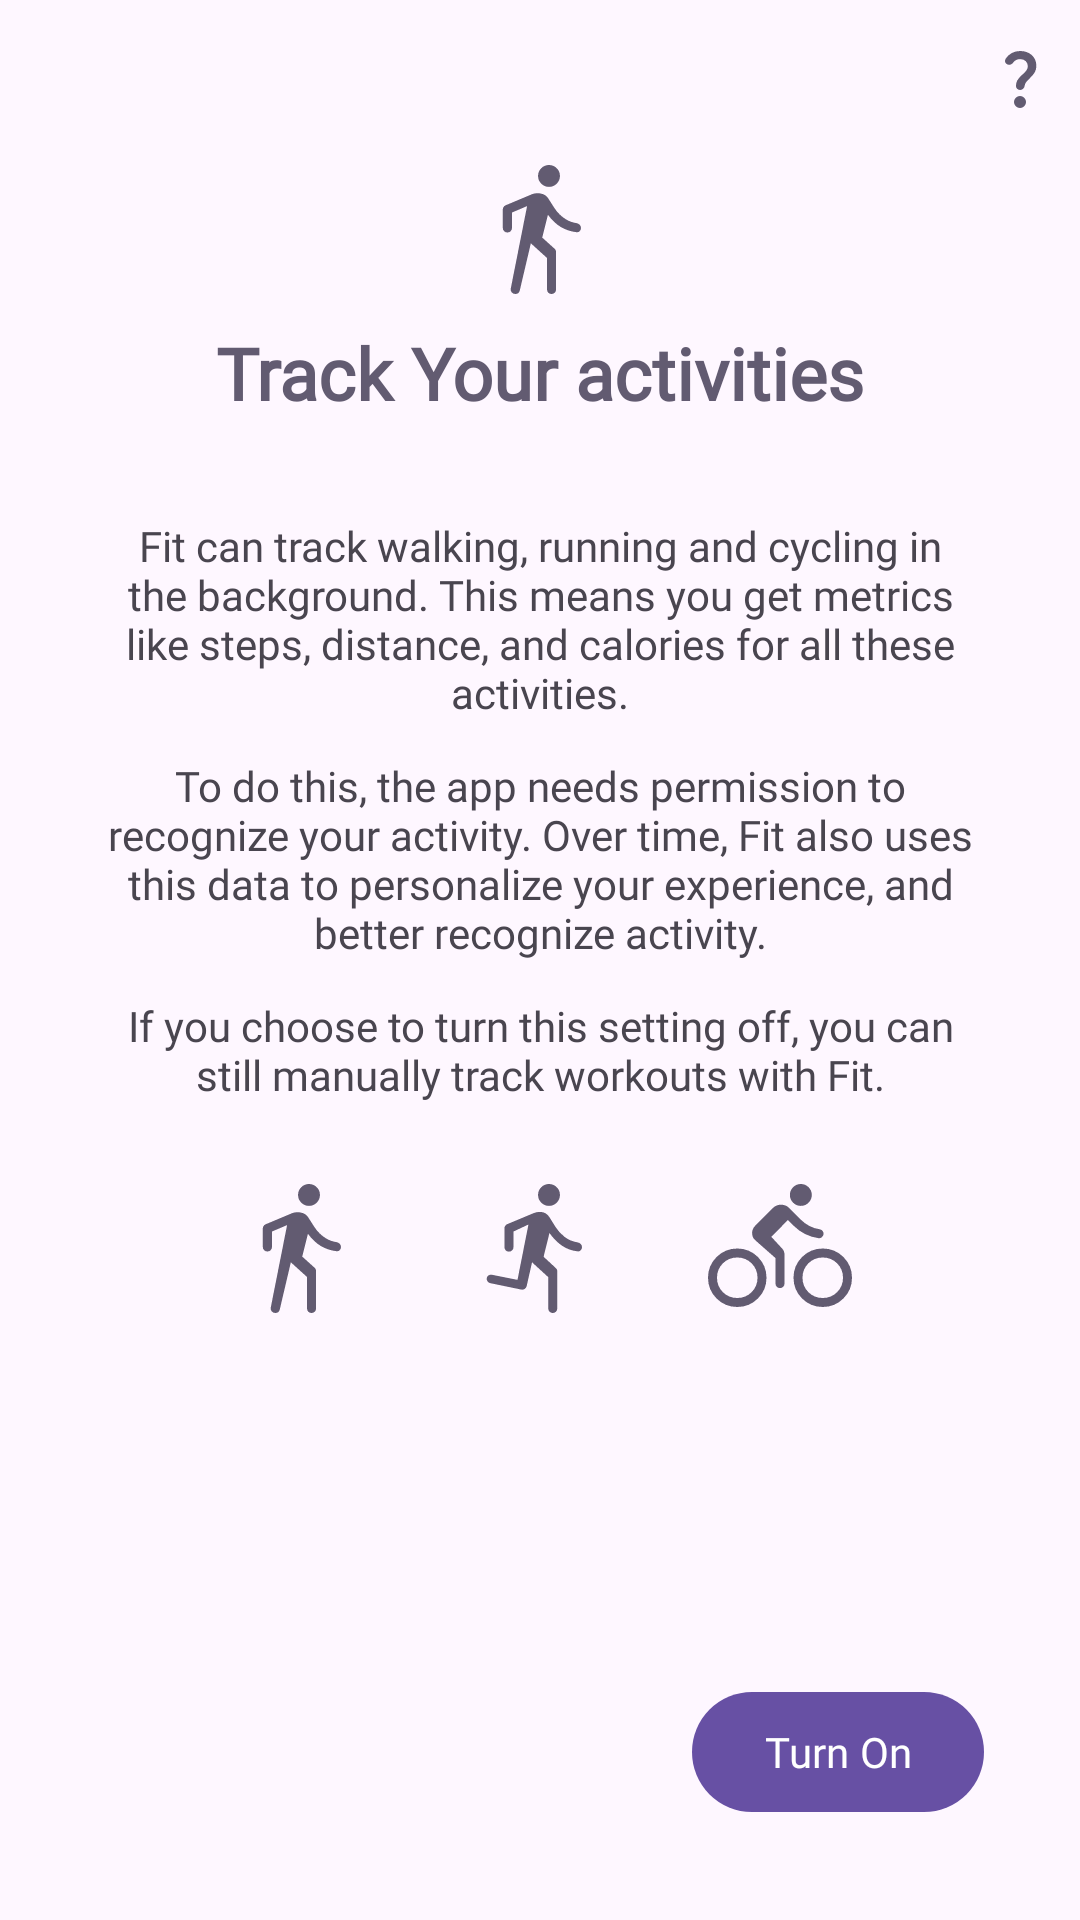

Icon click points for this 1080w x 1920h phone screenshot, format (x=x, y=y):
directions bike: (x=780, y=1245)
directions run: (x=534, y=1248)
directions walk: (x=541, y=229), (x=301, y=1248)
question mark: (x=1021, y=79)
